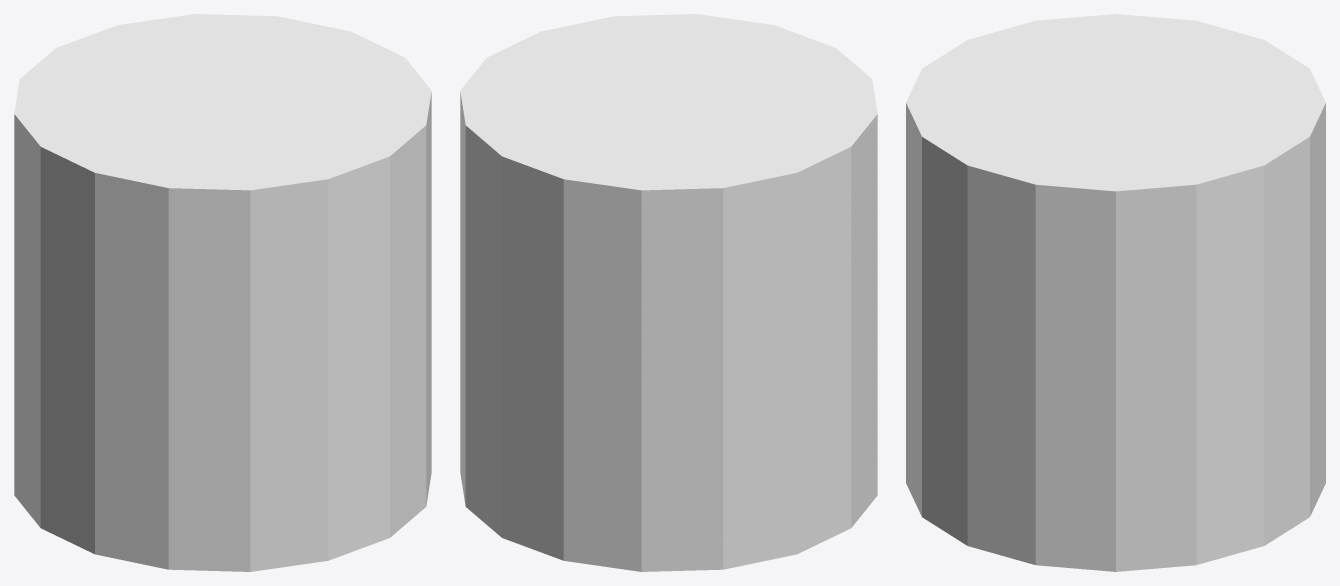
The model's file is pillar.glb.
3 renders of one model, left to right at view 1: azimuth 30°, elevation 25°; view 2: azimuth 150°, elevation 25°; view 3: azimuth 270°, elevation 25°, orthographic.
Parts seen in each view (by area): view 1: Цилиндр; view 2: Цилиндр; view 3: Цилиндр.
Part boxes in pixels (x1,y1,x2,y2): Цилиндр: (14, 14, 431, 571); Цилиндр: (460, 14, 877, 571); Цилиндр: (906, 14, 1325, 571).
Bounding box in the file's own units: 1 × 1 × 1.
Materials: 1 (1 with a texture image).
